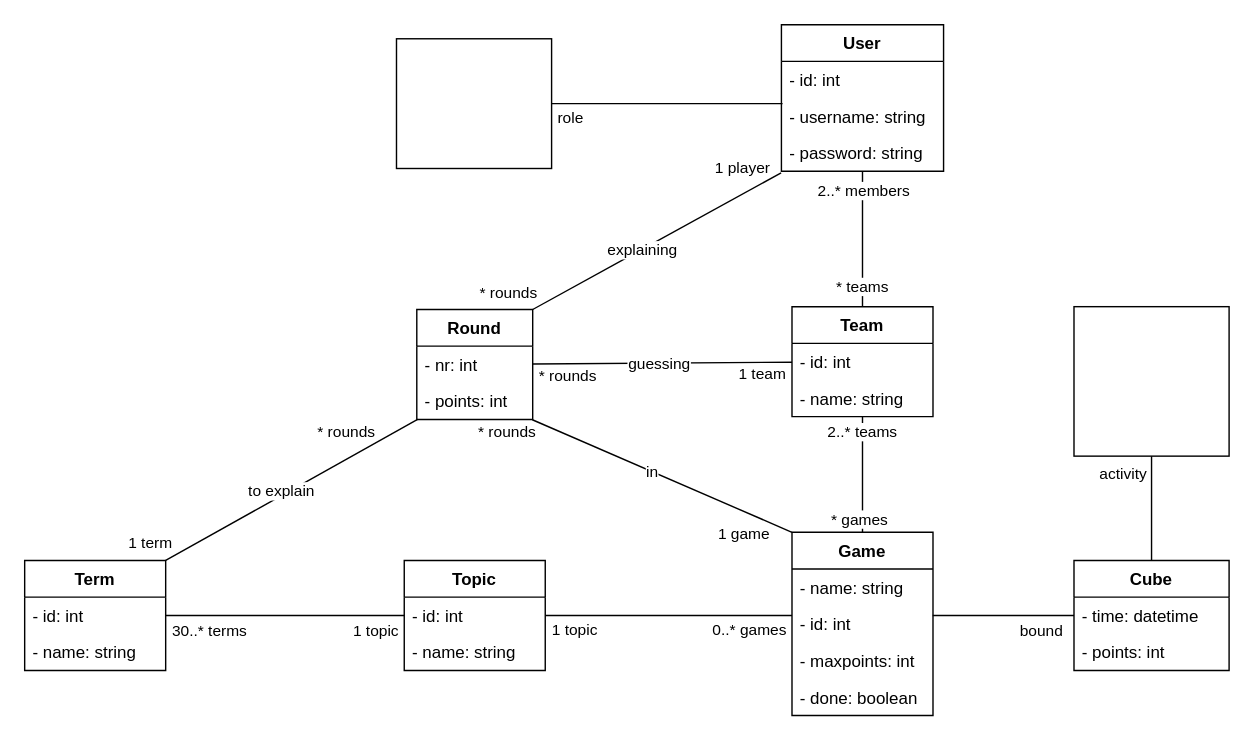
This 1255x744 diagram has some shape labels left out. Here are the shapes that lost their labels. From the top down, the centre of each, then its label:
the point at 473,102: <<enumeration>> UserRole Player GameAdmin SystemAdmin
the point at 1151,380: <<enumeration>> Activity Draw Mime Talk Rhyme
